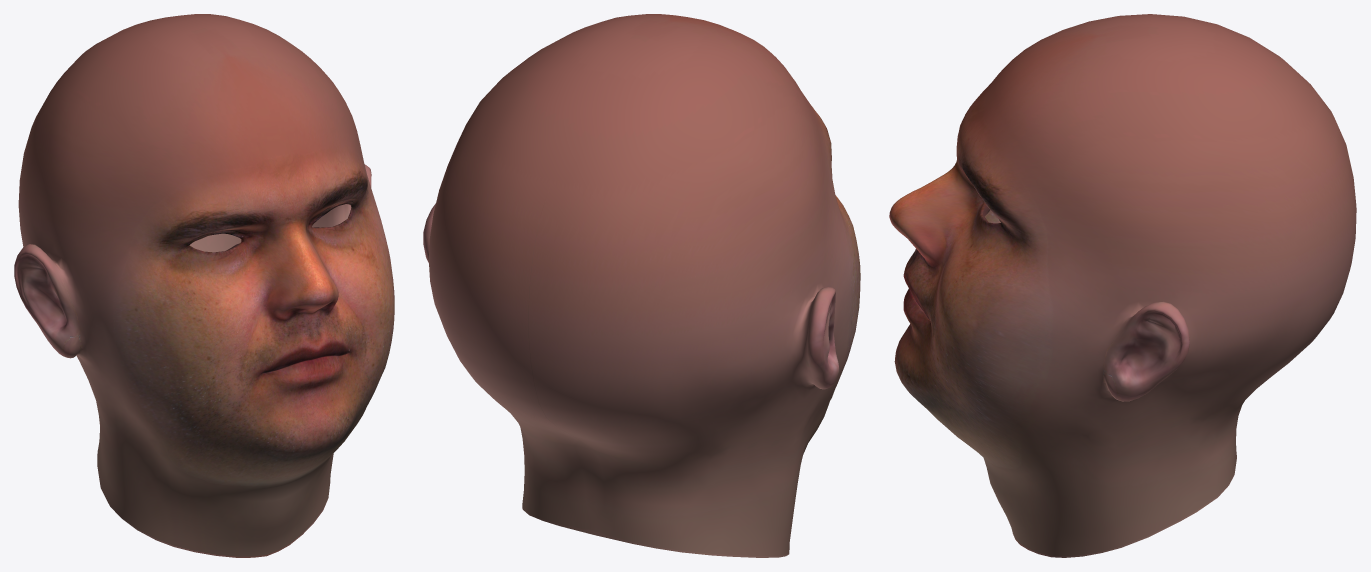
3 renders of one model, left to right at view 1: azimuth 30°, elevation 25°; view 2: azimuth 150°, elevation 25°; view 3: azimuth 270°, elevation 25°, orthographic. The views are drawn at different scales.
Visible parts, largest first — view 1: FaceGen; view 2: FaceGen; view 3: FaceGen.
Boxes of the visible parts, bbox=[...] form: FaceGen: bbox=[14, 14, 394, 557]; FaceGen: bbox=[423, 14, 860, 557]; FaceGen: bbox=[889, 14, 1356, 557].
Size of the model in its own units: 212 by 277 by 233.
Materials: 1 (1 with a texture image).
